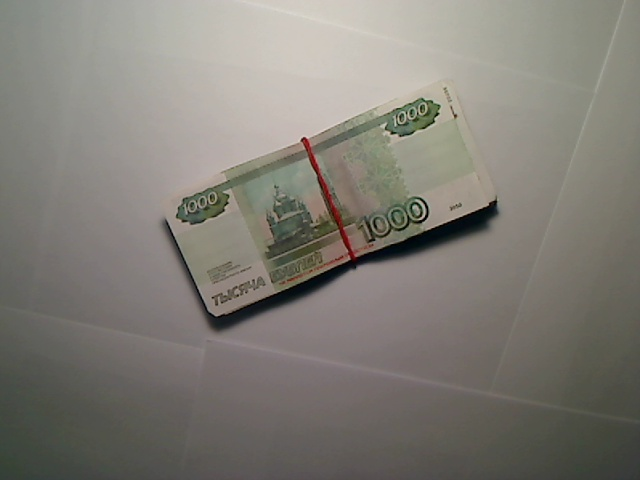banknotes: (155, 77, 501, 324)
